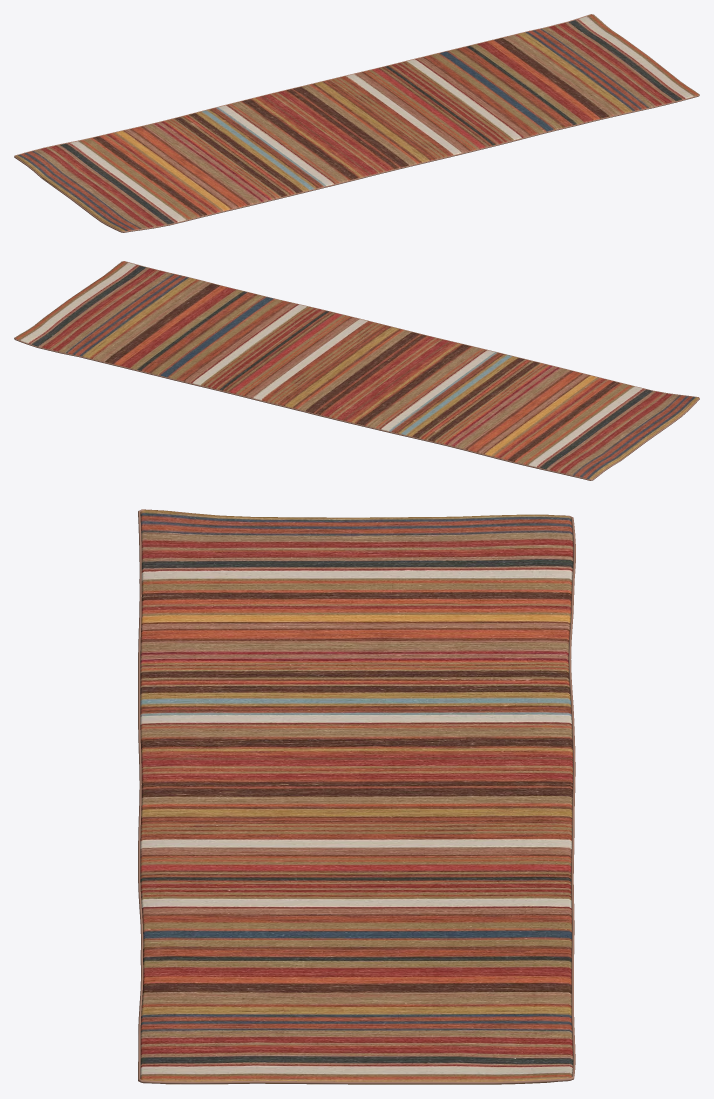
Rendered from abo-B0735SFWJZ.glb.
The picture shows the model from 3 angles, top to bottom: view 1: azimuth 30°, elevation 25°; view 2: azimuth 150°, elevation 25°; view 3: azimuth 270°, elevation 25°; orthographic projection. The views are drawn at different scales.
Size of the model in its own units: 2.44 by 0.03 by 0.799.
1 material, 1 textured.
